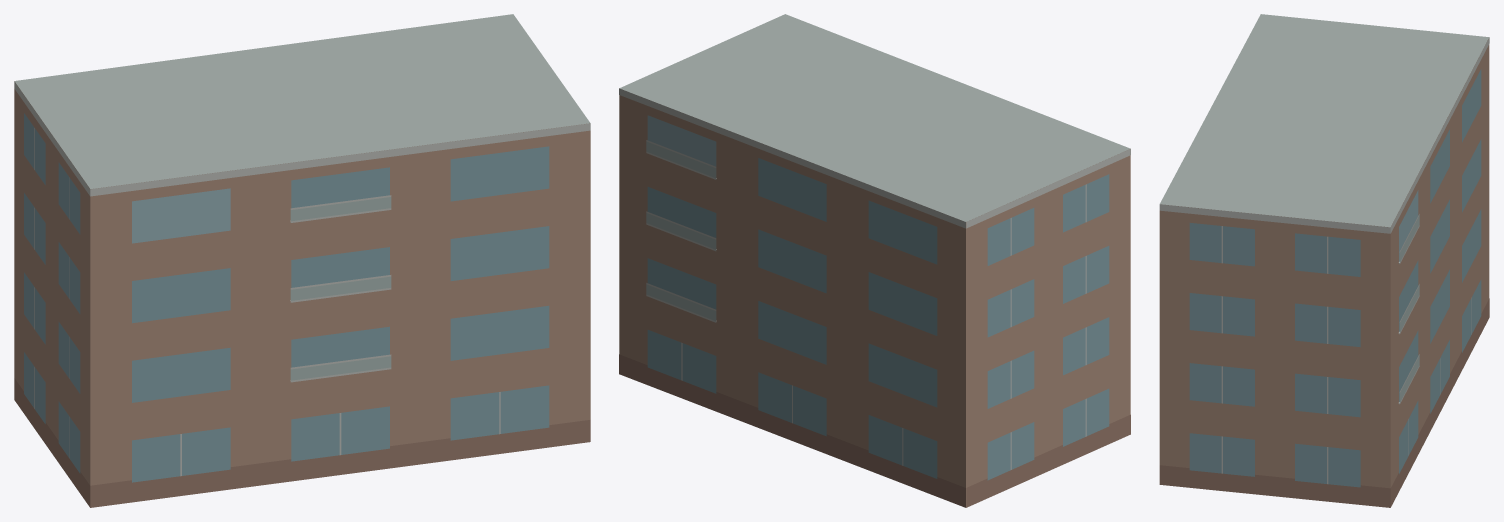
Rendered from survey-upis-32951712.glb.
3 renders of one model, left to right at view 1: azimuth 30°, elevation 25°; view 2: azimuth 150°, elevation 25°; view 3: azimuth 270°, elevation 25°, orthographic. The views are drawn at different scales.
Parts seen in each view (by area): view 1: survey-upis-32951712.tmp; view 2: survey-upis-32951712.tmp; view 3: survey-upis-32951712.tmp.
Part boxes in pixels (left/top/right/bottom): survey-upis-32951712.tmp: left=14, top=14, right=590, bottom=507; survey-upis-32951712.tmp: left=619, top=14, right=1130, bottom=507; survey-upis-32951712.tmp: left=1159, top=14, right=1489, bottom=507.
Size of the model in its own units: 17.3 by 10.6 by 11.3.
